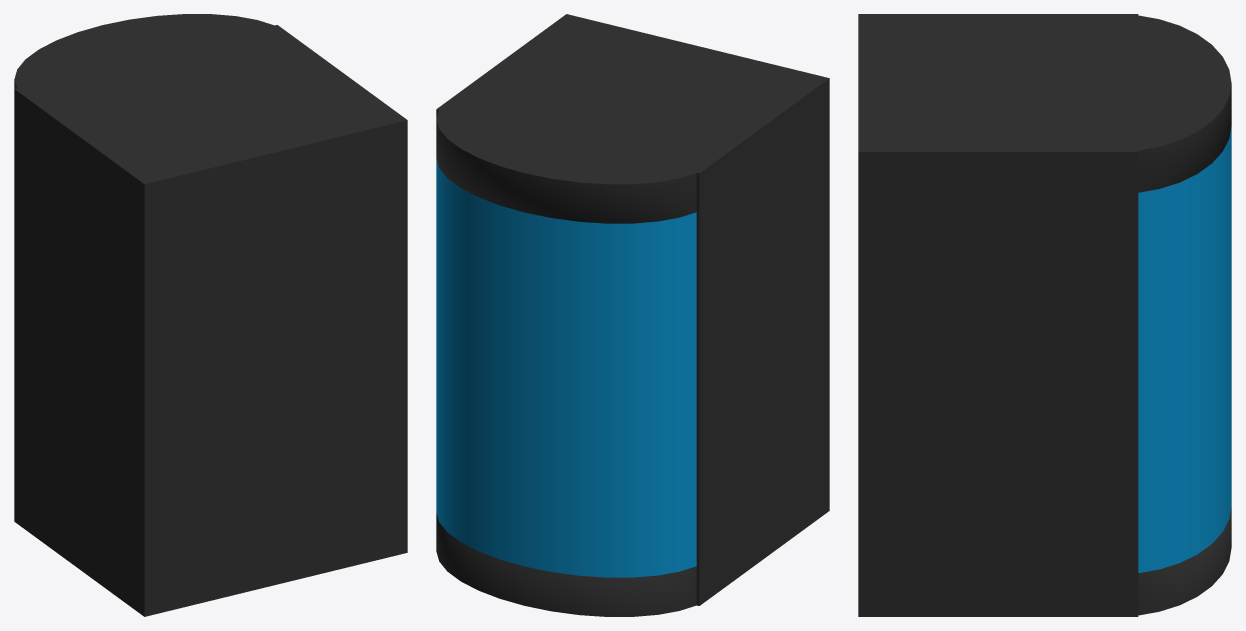
The model's file is Koelkast_animatie.fbx.
The picture shows the model from 3 angles, left to right: view 1: azimuth 30°, elevation 25°; view 2: azimuth 150°, elevation 25°; view 3: azimuth 270°, elevation 25°; orthographic projection. The views are drawn at different scales.
Visible parts, largest first — view 1: Left_wall; view 2: Left_wall, Cylinder; view 3: Left_wall, Cylinder.
Boxes of the visible parts, left/top/right/bottom form: Left_wall: left=14, top=14, right=407, bottom=616; Left_wall: left=436, top=14, right=829, bottom=616; Cylinder: left=436, top=159, right=696, bottom=577; Left_wall: left=858, top=14, right=1231, bottom=616; Cylinder: left=1138, top=126, right=1231, bottom=573.
Bounding box in the file's own units: 2.8 × 4.4 × 3.2.
